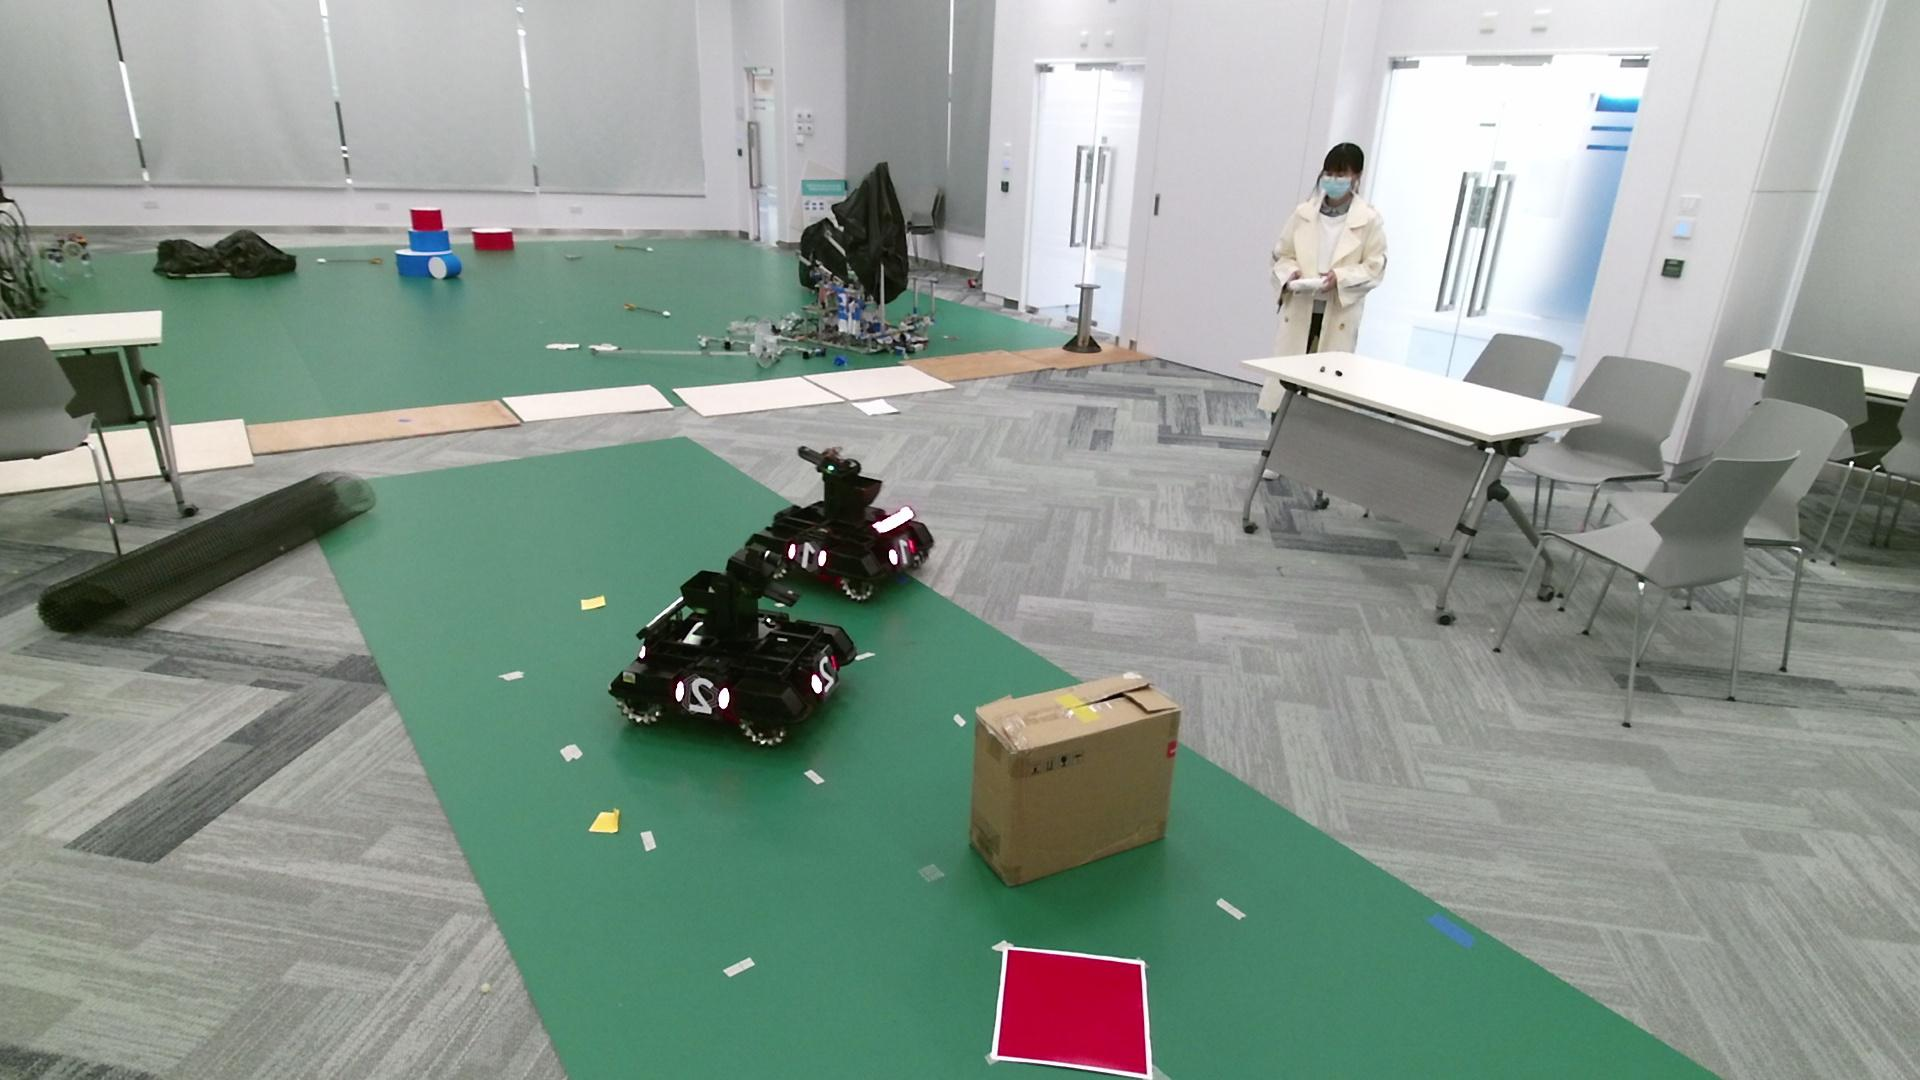robot: (607, 542, 858, 748), (745, 443, 935, 603)
